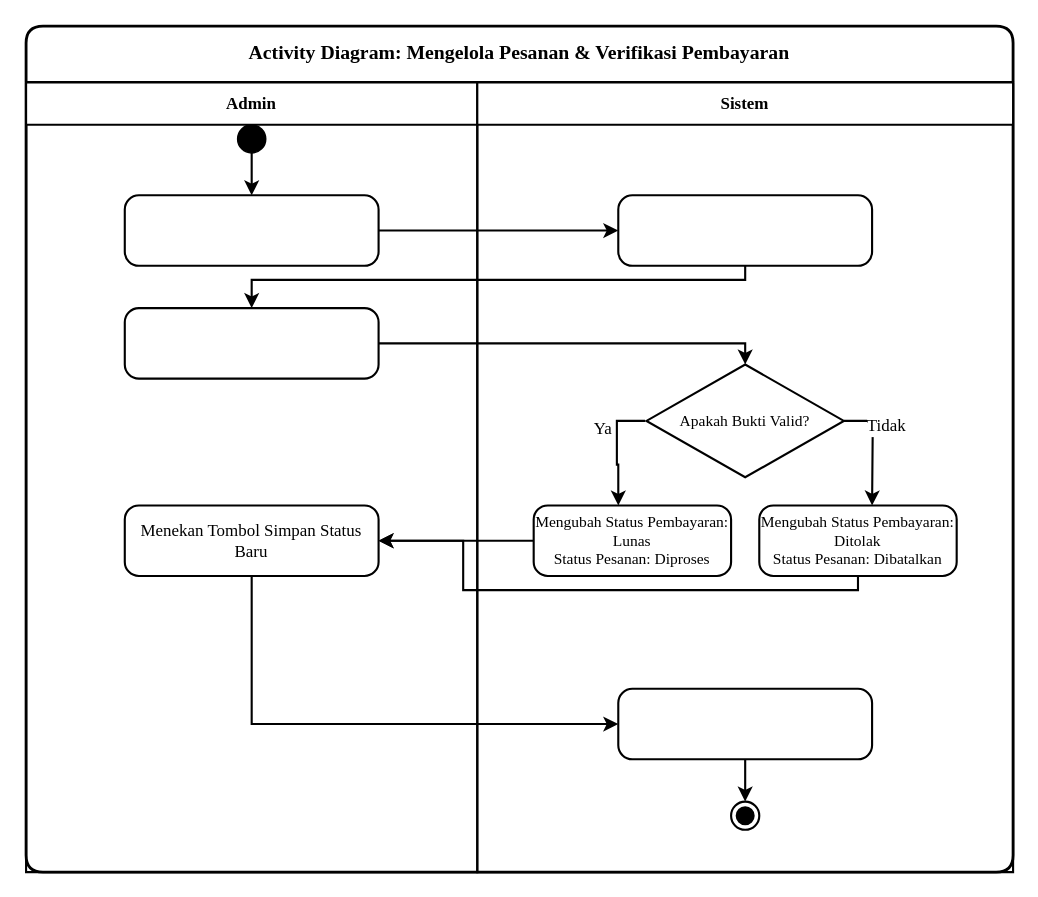
This 1038x897 diagram has some shape labels left out. Here are the shapes that lost their labels. From the top down, the centre of each, then its label:
point (251, 230): Mengakses Halaman Kelola Pesanan (kelola_pesanan.php)
point (745, 230): Menampilkan Daftar Pesanan & Rincian Transaksi
point (251, 342): Memilih Pesanan & Memeriksa Bukti Transfer Pelanggan
point (745, 723): Memperbarui Data Pesanan di Database & Menampilkan Pesan Sukses
